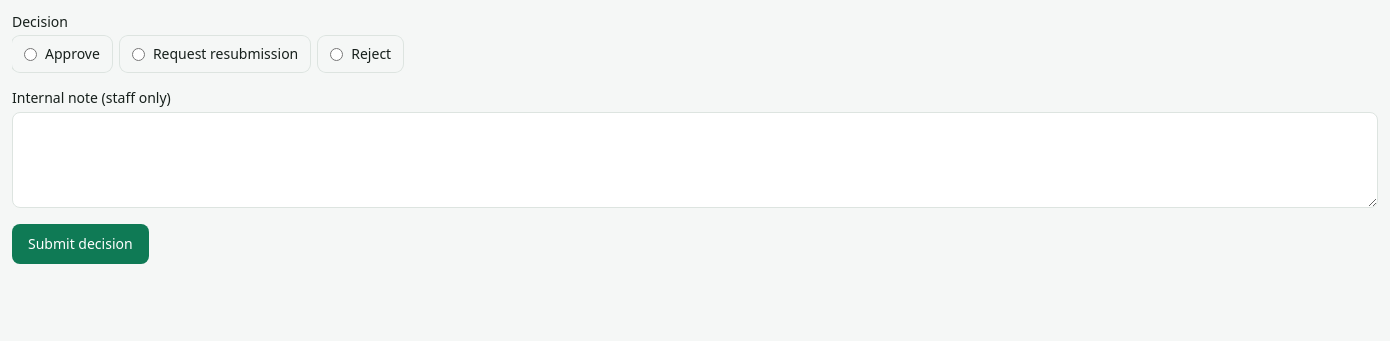
Test: review decisions › shows the server error and keeps the draft when the call fails
The width and height of the screenshot is (1390, 341).
Click the radio button labelled "Approve": (30, 54) [24, 48, 37, 60]
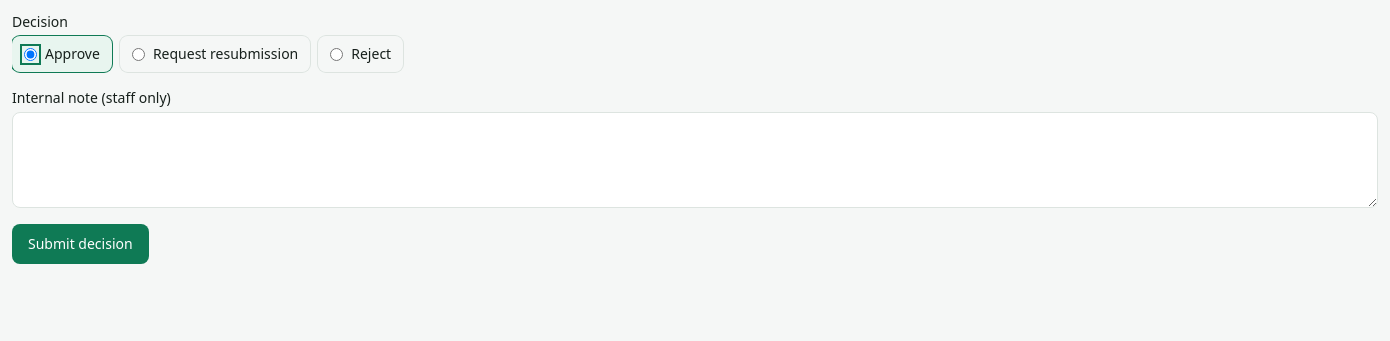
Click the button "Submit decision": (80, 244) [12, 224, 149, 264]
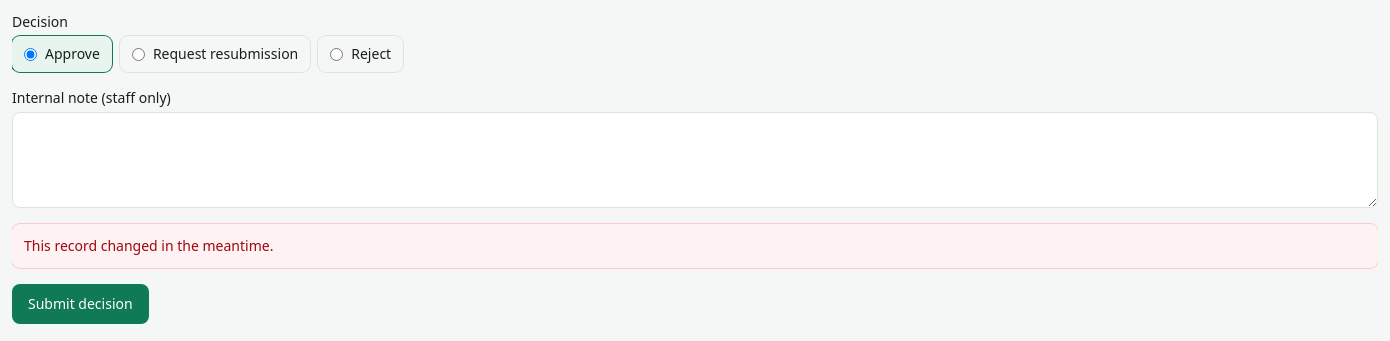
Check: the radio button labelled "Approve" is checked, box [24, 48, 37, 60]
Check: the message reads "This record changed in the meantime.", box [24, 236, 273, 255]
